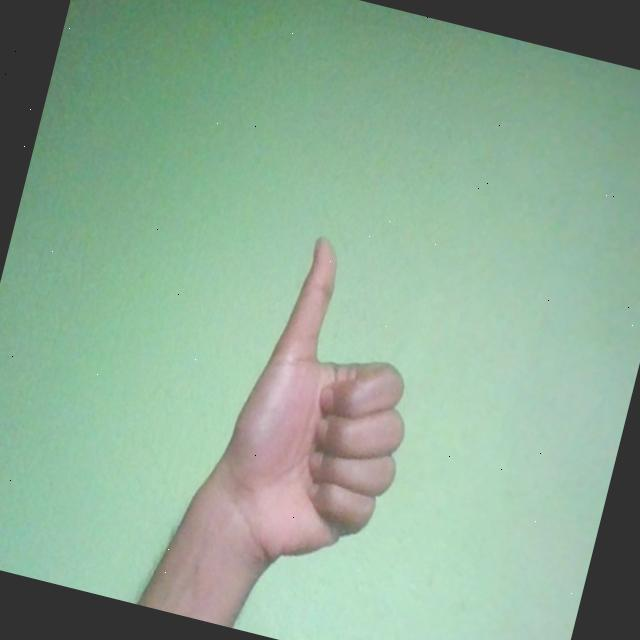Good Job: (202, 227, 448, 589)
